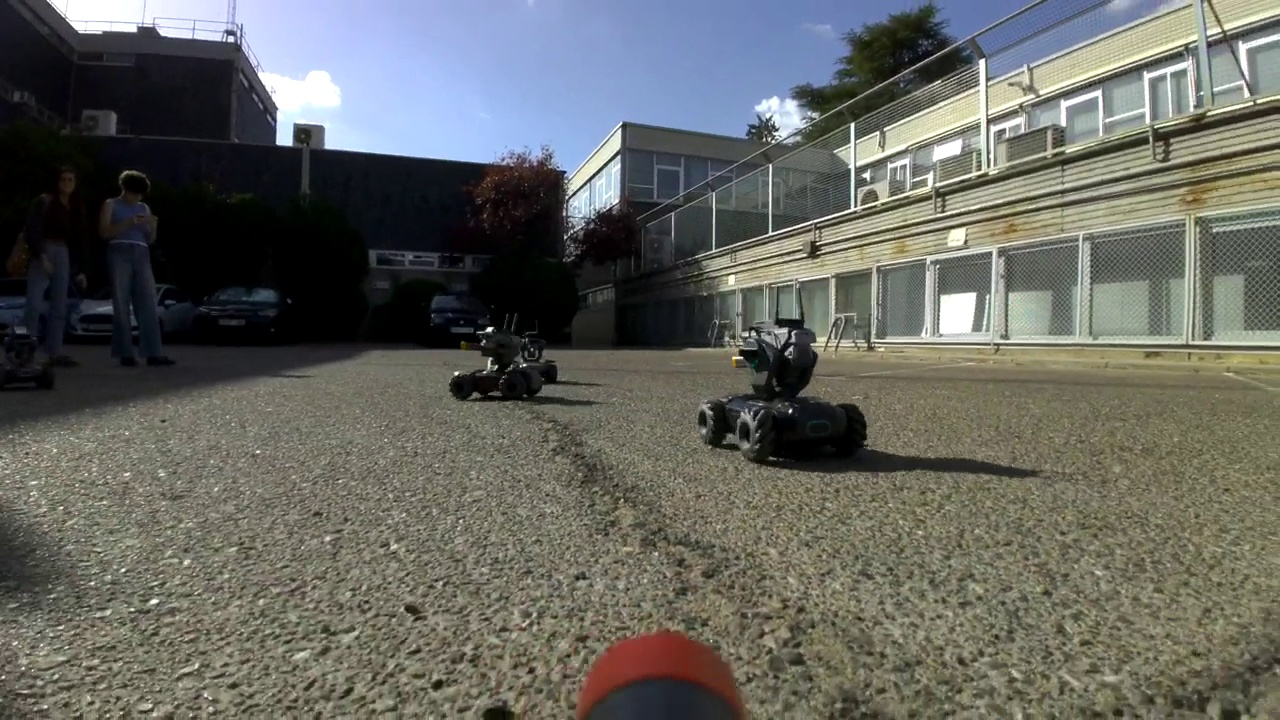robot: (697, 286, 869, 460), (454, 309, 547, 401), (1, 312, 55, 389), (517, 319, 559, 384)
